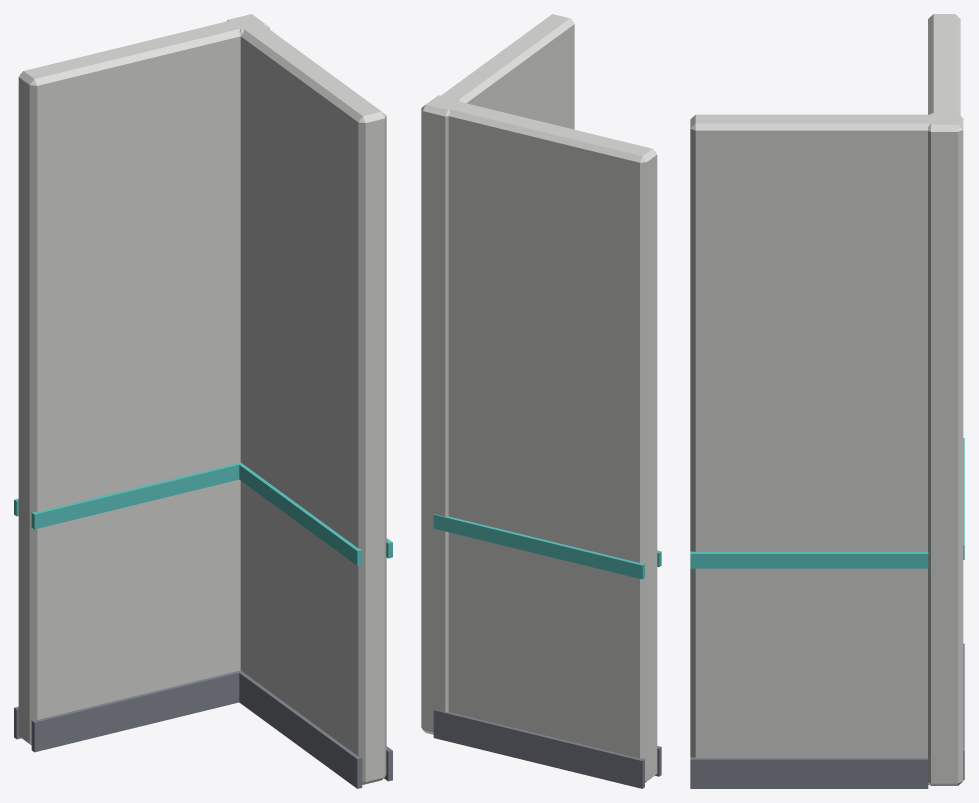
Rendered from hospital-wards-and-clinic-operations-ward-bay-corner-380bfdc4__23662.glb.
The picture shows the model from 3 angles, left to right: view 1: azimuth 30°, elevation 25°; view 2: azimuth 150°, elevation 25°; view 3: azimuth 270°, elevation 25°; orthographic projection. The views are drawn at different scales.
Visible parts, largest first — view 1: ward-bay-corner; view 2: ward-bay-corner; view 3: ward-bay-corner.
Part boxes in pixels (left/top/right/bottom): ward-bay-corner: left=14, top=14, right=392, bottom=788; ward-bay-corner: left=421, top=14, right=661, bottom=788; ward-bay-corner: left=690, top=14, right=964, bottom=788.
Size of the model in its own units: 1.02 by 2.7 by 1.02.
